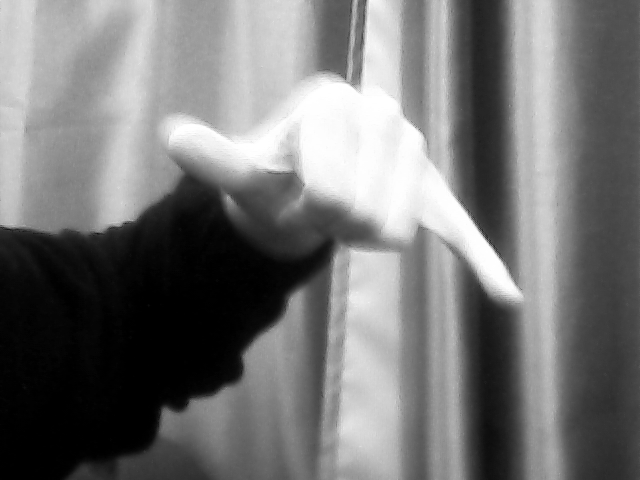aloha: (161, 70, 541, 312)
